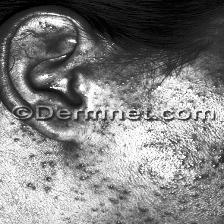Benign Marking or Mole: (141, 129, 184, 151), (25, 175, 58, 194), (31, 20, 54, 30), (191, 173, 204, 183), (214, 154, 224, 166)
